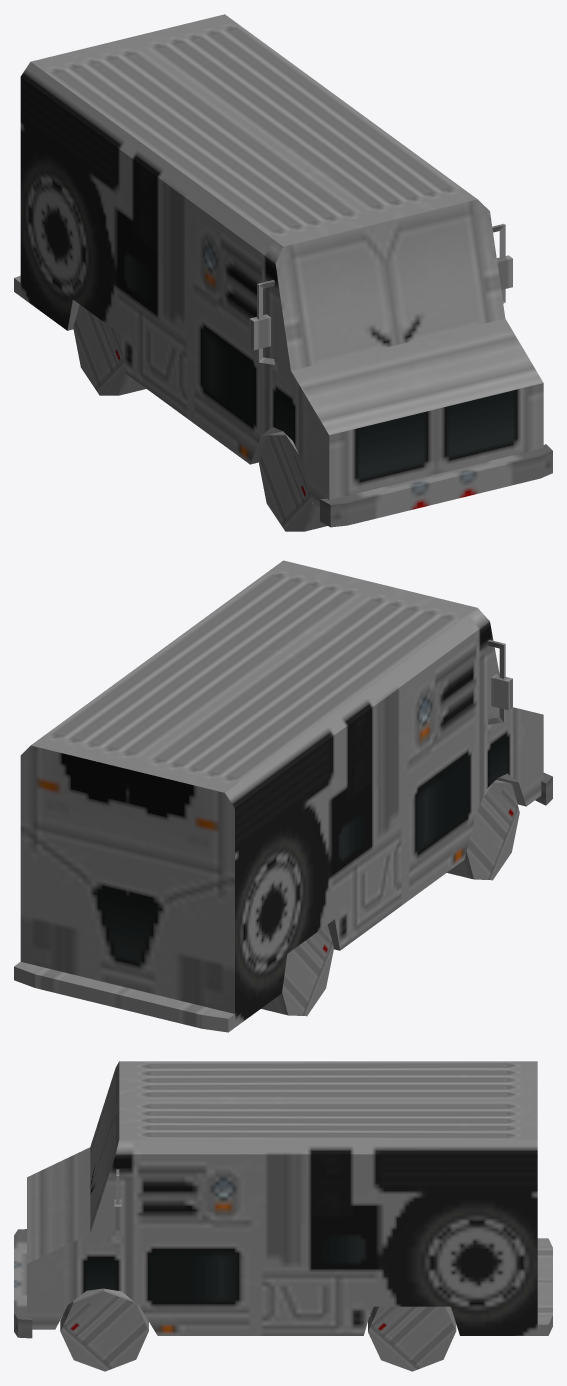
File: Car8.glb
3 views of the same model, one above another, from view 1: azimuth 30°, elevation 25°; view 2: azimuth 150°, elevation 25°; view 3: azimuth 270°, elevation 25° (orthographic). The views are drawn at different scales.
Parts seen in each view (by area): view 1: body; view 2: body; view 3: body.
Part boxes in pixels (bbox=[...]): body: bbox=[14, 14, 552, 531]; body: bbox=[14, 560, 552, 1032]; body: bbox=[14, 1061, 552, 1371].
Size of the model in its own units: 3.17 by 3.23 by 6.89.
1 material, 1 textured.
